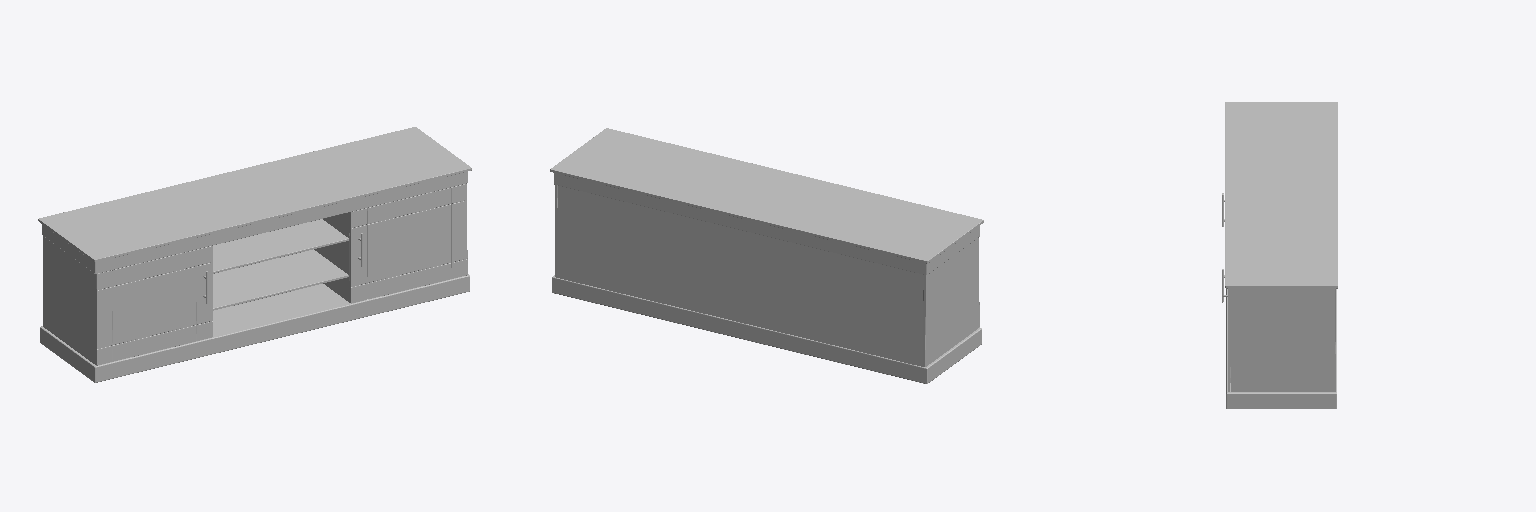
The model's file is TelevisionUnit.obj.
The picture shows the model from 3 angles: view 1: azimuth 30°, elevation 25°; view 2: azimuth 150°, elevation 25°; view 3: azimuth 270°, elevation 25°; orthographic projection.
Visible parts, largest first — view 1: TV_Unit_Base, Unit_Door_L.1, Unit_Door_R.1; view 2: TV_Unit_Base; view 3: TV_Unit_Base.
Boxes of the visible parts, x1=… form: TV_Unit_Base: x1=38, y1=127, x2=471, y2=382; Unit_Door_L.1: x1=95, y1=246, x2=212, y2=365; Unit_Door_R.1: x1=349, y1=184, x2=467, y2=303; TV_Unit_Base: x1=550, y1=128, x2=983, y2=383; TV_Unit_Base: x1=1225, y1=102, x2=1337, y2=408.
Bounding box in the file's own units: 161 × 50.5 × 43.13.